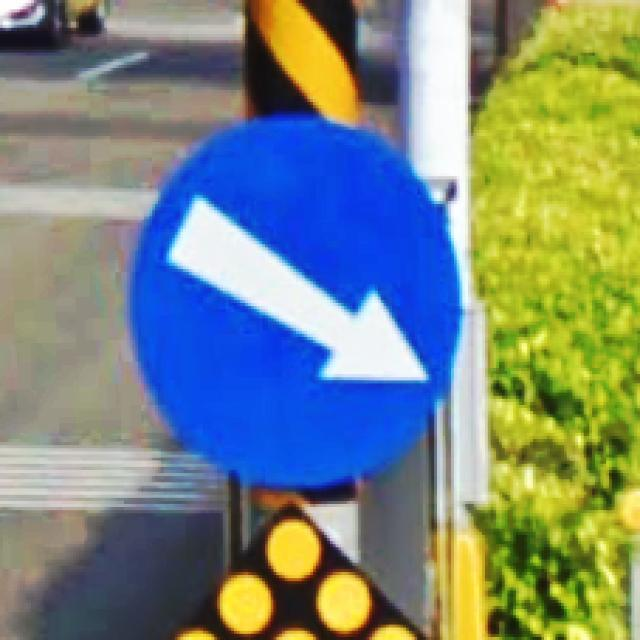thisway: (124, 108, 465, 492)
